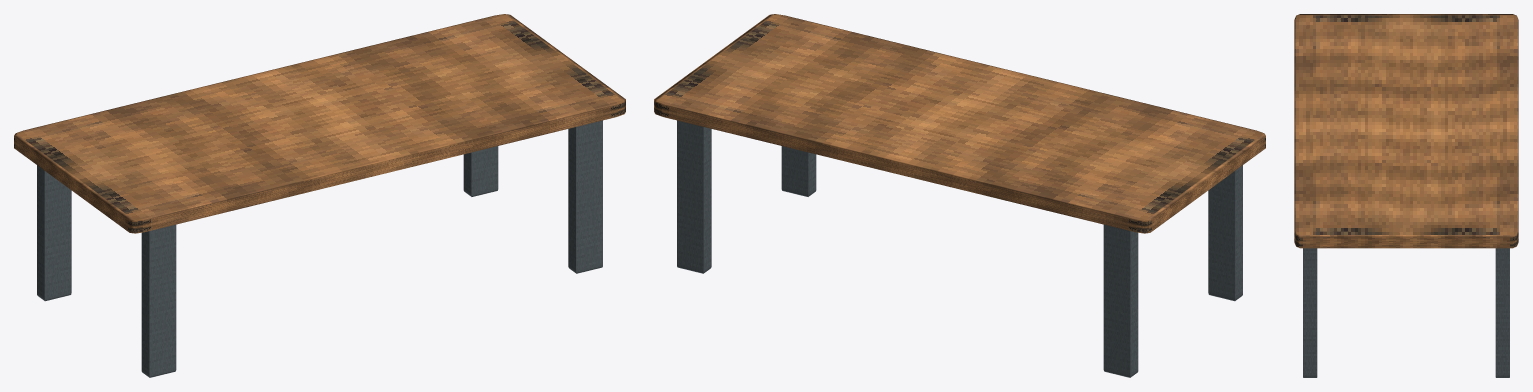
File: dining-table.glb
The picture shows the model from 3 angles, left to right: view 1: azimuth 30°, elevation 25°; view 2: azimuth 150°, elevation 25°; view 3: azimuth 270°, elevation 25°; orthographic projection. The views are drawn at different scales.
Visible parts, largest first — view 1: top, leg (×4); view 2: top, leg (×4); view 3: top, leg (×2).
Part boxes in pixels (x1,y1,x2,y2): top: (14,14,625,233); leg (×4): (37,120,602,377); top: (654,14,1265,233); leg (×4): (677,120,1242,377); top: (1294,14,1518,248); leg (×2): (1303,248,1509,377).
Size of the model in its own units: 2.4 by 0.76 by 1.02.
Materials: 2 (2 with a texture image).
